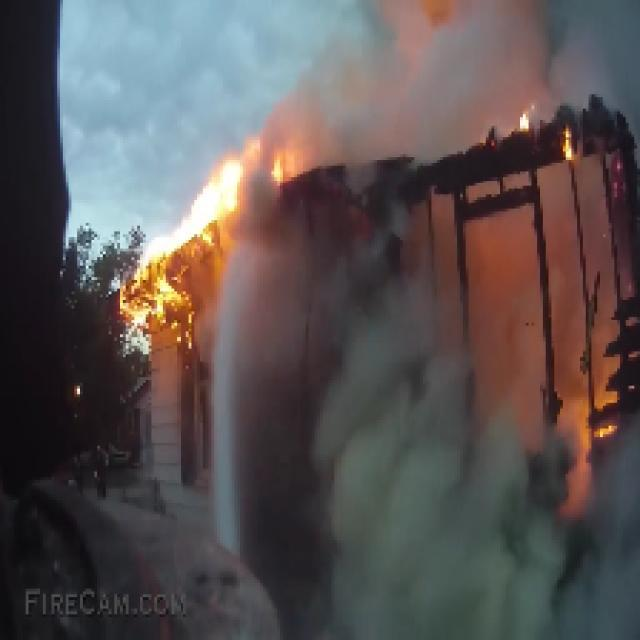Fire: (114, 134, 297, 357), (562, 368, 618, 461), (520, 111, 583, 163)
Smoke: (265, 8, 637, 640)
